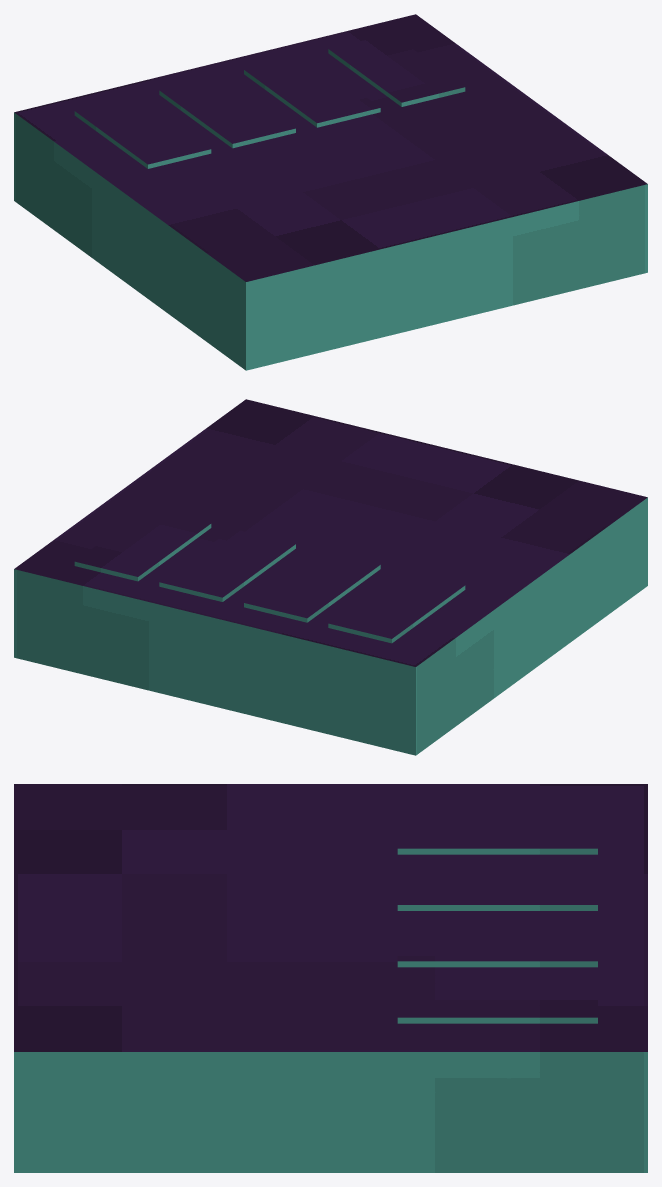
The model's file is register_drawer.fbx.
3 renders of one model, top to bottom at view 1: azimuth 30°, elevation 25°; view 2: azimuth 150°, elevation 25°; view 3: azimuth 270°, elevation 25°, orthographic. The views are drawn at different scales.
Parts seen in each view (by area): view 1: register_drawer; view 2: register_drawer; view 3: register_drawer.
Boxes of the visible parts, bbox=[...] form: register_drawer: bbox=[14, 14, 647, 370]; register_drawer: bbox=[14, 399, 647, 755]; register_drawer: bbox=[14, 784, 647, 1172].
Size of the model in its own units: 38 by 8.4 by 38.
